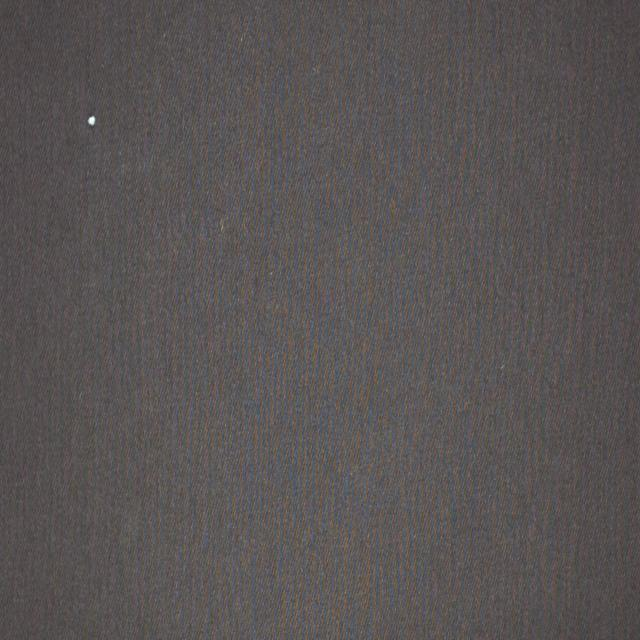Knot: (86, 114, 96, 126)
